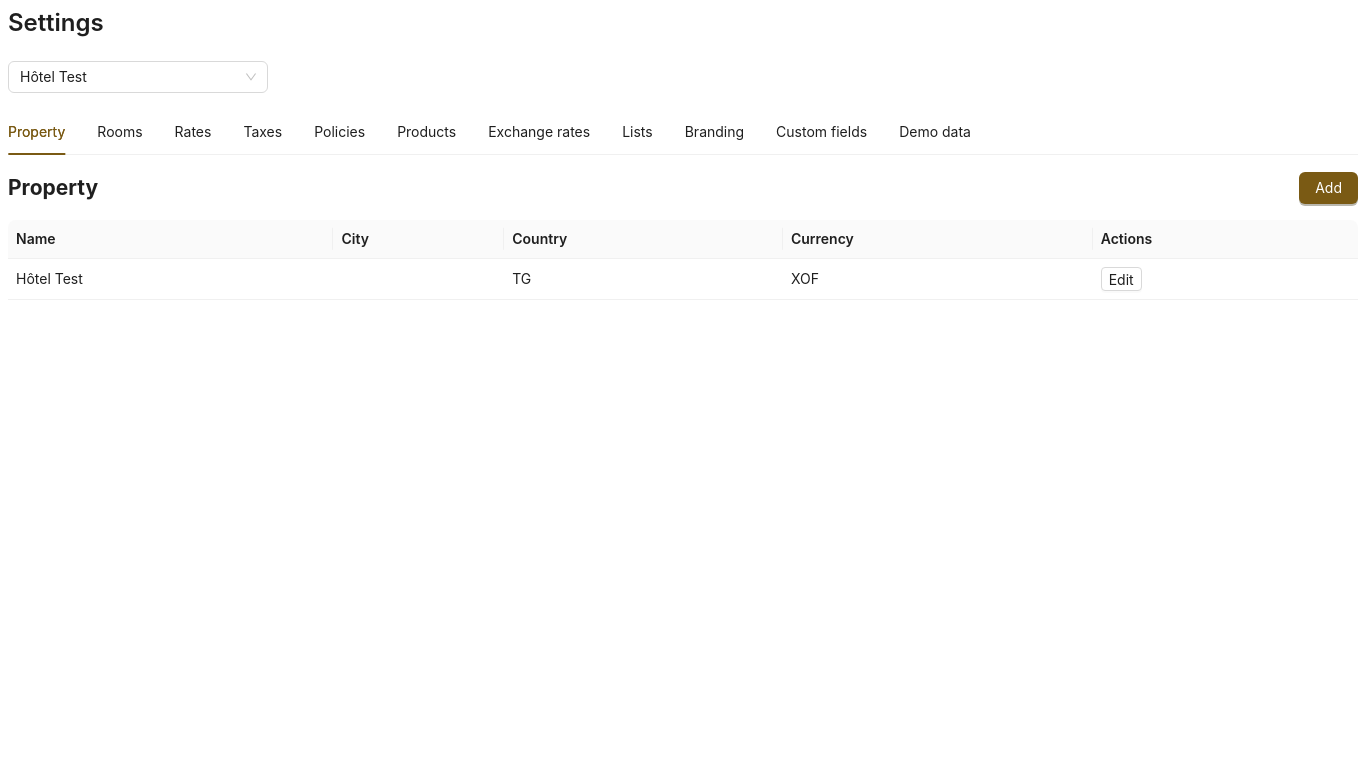
Test: settings display fixes › translates housekeeping statuses in English
The image size is (1366, 768).
Expected: the text "Hôtel Test" is shown, 20,68 -> 87,85
Click the tab "Rooms": (120, 132) 97,121 -> 143,143
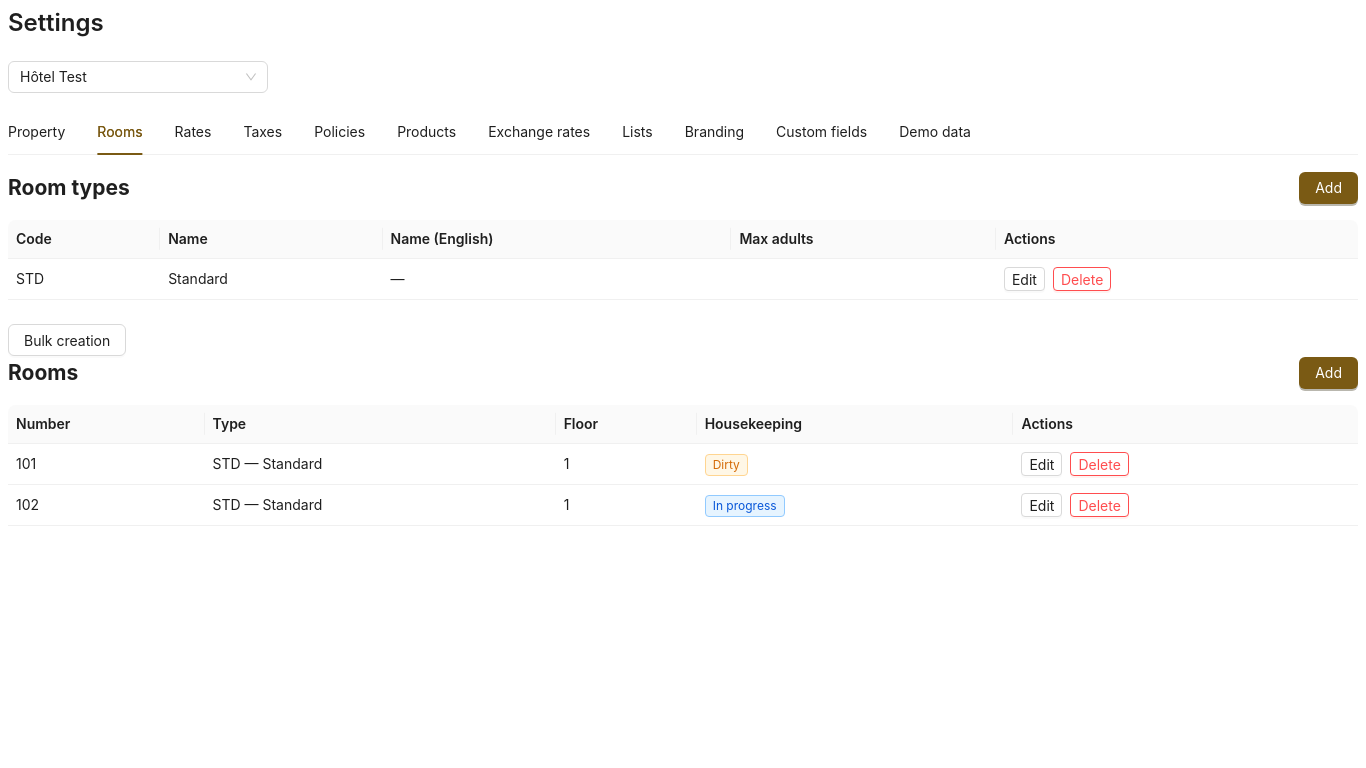
Now the text "Dirty" is shown, box 705,454 -> 748,476
Now the text "In progress" is shown, box 705,494 -> 785,516
